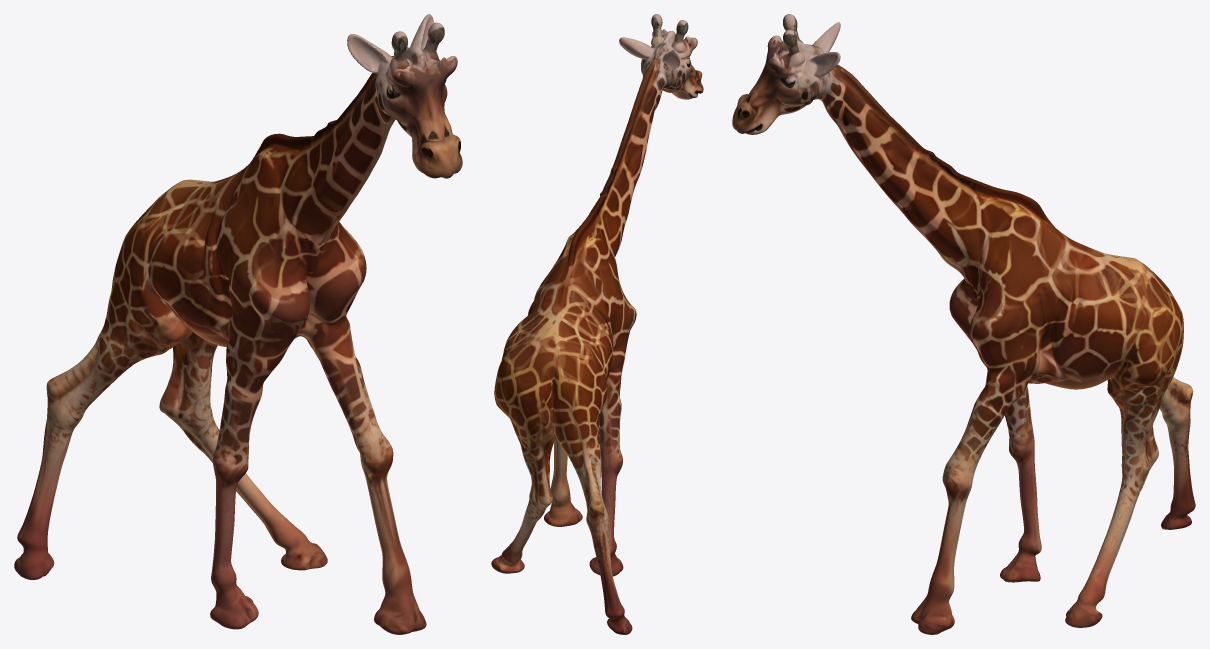
The model's file is giraffe.glb.
3 views of the same model, side by side, from view 1: azimuth 30°, elevation 25°; view 2: azimuth 150°, elevation 25°; view 3: azimuth 270°, elevation 25° (orthographic). The views are drawn at different scales.
Visible parts, largest first — view 1: tripo_node_d4c9451c-526f-4d40-9cc1-fb929fe7516a; view 2: tripo_node_d4c9451c-526f-4d40-9cc1-fb929fe7516a; view 3: tripo_node_d4c9451c-526f-4d40-9cc1-fb929fe7516a.
Part boxes in pixels (bbox=[...]): tripo_node_d4c9451c-526f-4d40-9cc1-fb929fe7516a: bbox=[14, 14, 462, 634]; tripo_node_d4c9451c-526f-4d40-9cc1-fb929fe7516a: bbox=[491, 14, 703, 634]; tripo_node_d4c9451c-526f-4d40-9cc1-fb929fe7516a: bbox=[732, 14, 1195, 634].
Size of the model in its own units: 0.4007 by 1 by 0.725.
1 material, 1 textured.
